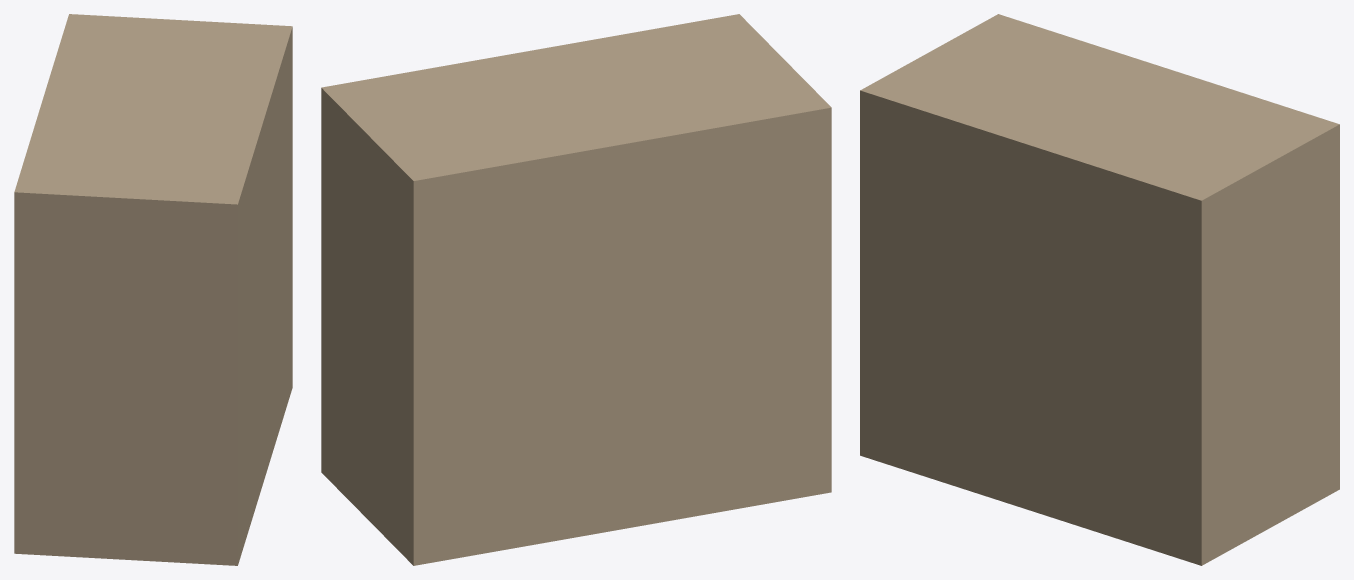
The model's file is bld_98868858.dae.
3 views of the same model, side by side, from view 1: azimuth 30°, elevation 25°; view 2: azimuth 150°, elevation 25°; view 3: azimuth 270°, elevation 25° (orthographic). The views are drawn at different scales.
Parts seen in each view (by area): view 1: bld_98868858; view 2: bld_98868858; view 3: bld_98868858.
Part boxes in pixels (x1,y1,x2,y2): bld_98868858: (14,14,292,565); bld_98868858: (321,14,831,565); bld_98868858: (860,14,1339,565).
Bounding box in the file's own units: 8.78 × 9.52 × 8.
